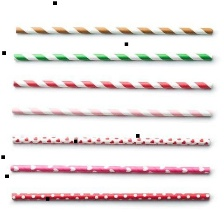drinking_straw: (6, 102, 217, 123), (6, 129, 215, 150), (8, 74, 217, 93), (6, 159, 215, 178), (7, 187, 214, 206), (11, 21, 217, 40), (10, 48, 217, 65)
